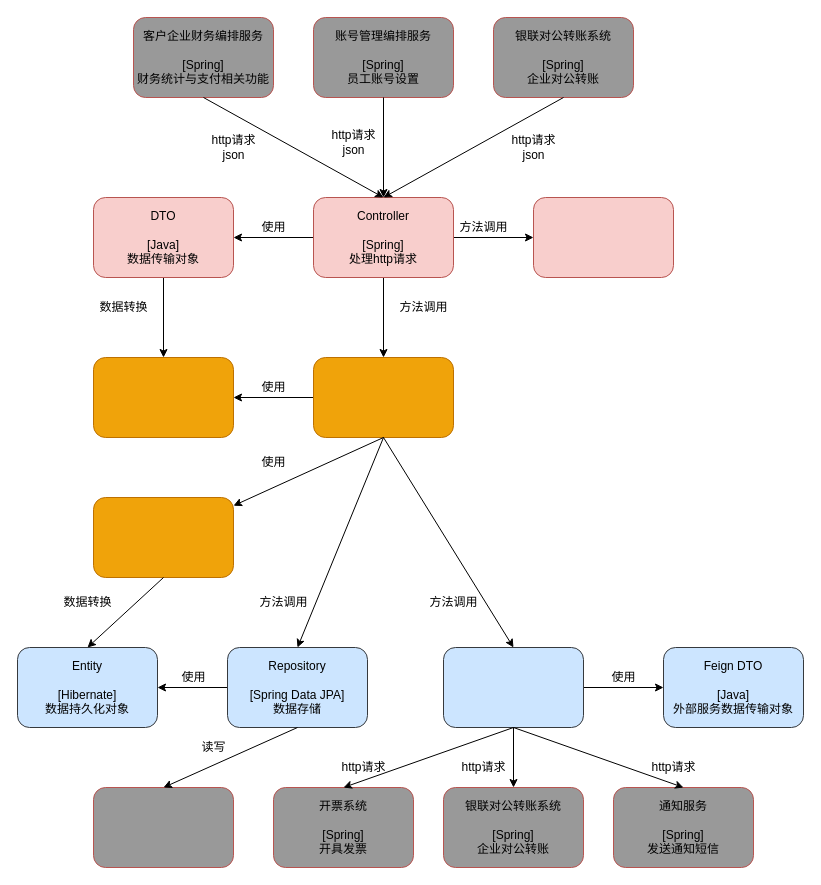
Some shapes in this 821 by 885 pixel diagram are drawn without their labels. The shapes that lost their labels are listed below. From the top down, each one's centre as x and y in pixels, then its label:
At pixel 603 237: "Exception Handler [Spring] 全局异常处理".
At pixel 163 397: "Model DTO [Java] 业务逻辑层数据传输对象".
At pixel 383 397: "Service [Java] 处理编排业务逻辑".
At pixel 163 537: "Model [Java] 封装业务逻辑".
At pixel 513 687: "Http Client [Feign] 调用外部服务".
At pixel 163 827: "数据库 [MySQL] 数据存储".
